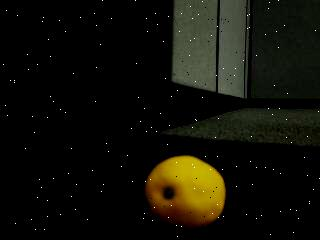Lemon: (144, 156, 229, 233)
